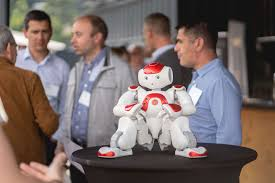nao: (92, 60, 209, 159)
